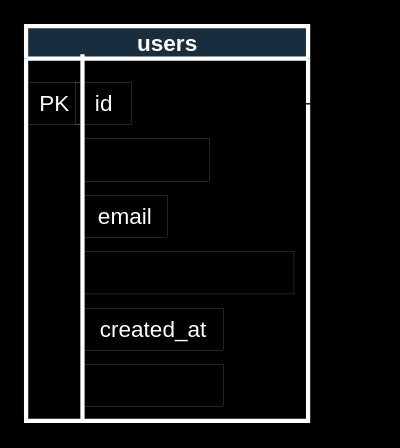
The diagram is 400 pixels wide and 448 high, and some of its shapes have lost their labels. Here are the shapes that lost their labels. From the top down, the centre of each, then its label:
point (145, 159): username
point (187, 272): hashed_password
point (152, 385): updated_at
